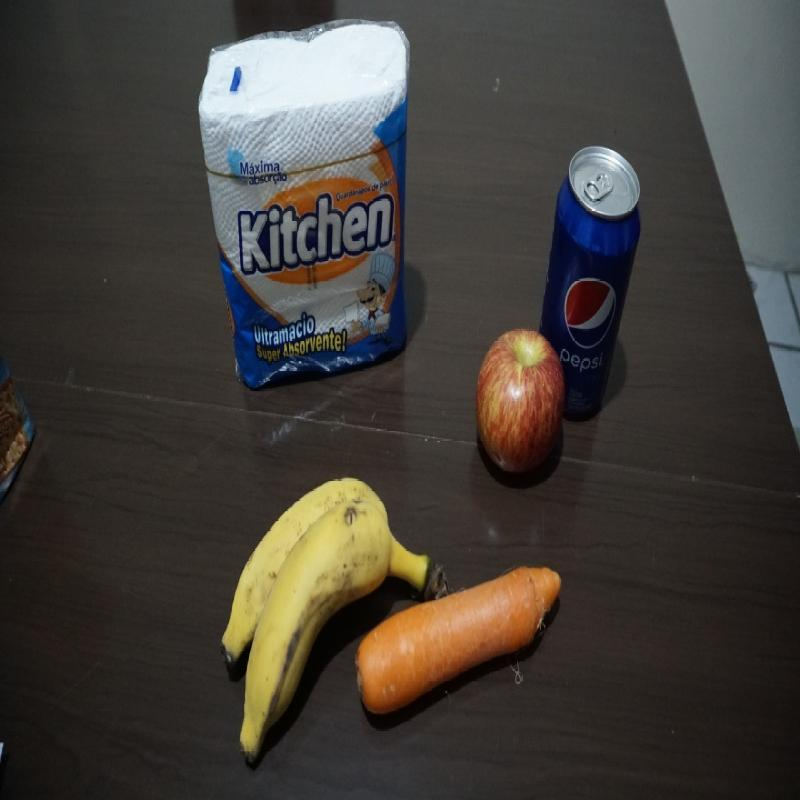Apple: (474, 324, 566, 476)
Banana: (222, 476, 443, 770)
Carrot: (352, 562, 564, 731)
Cracker: (3, 329, 37, 502)
Napkin: (197, 19, 415, 391)
Soda can: (537, 144, 642, 420)
